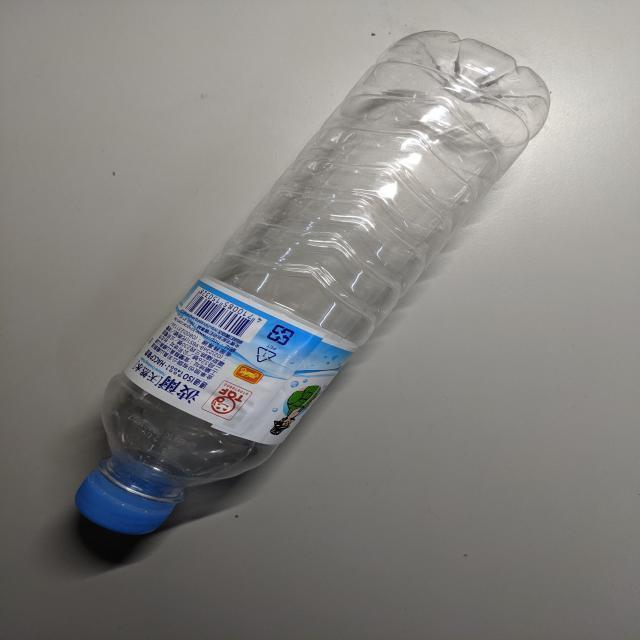Plastic: (68, 24, 556, 538)
